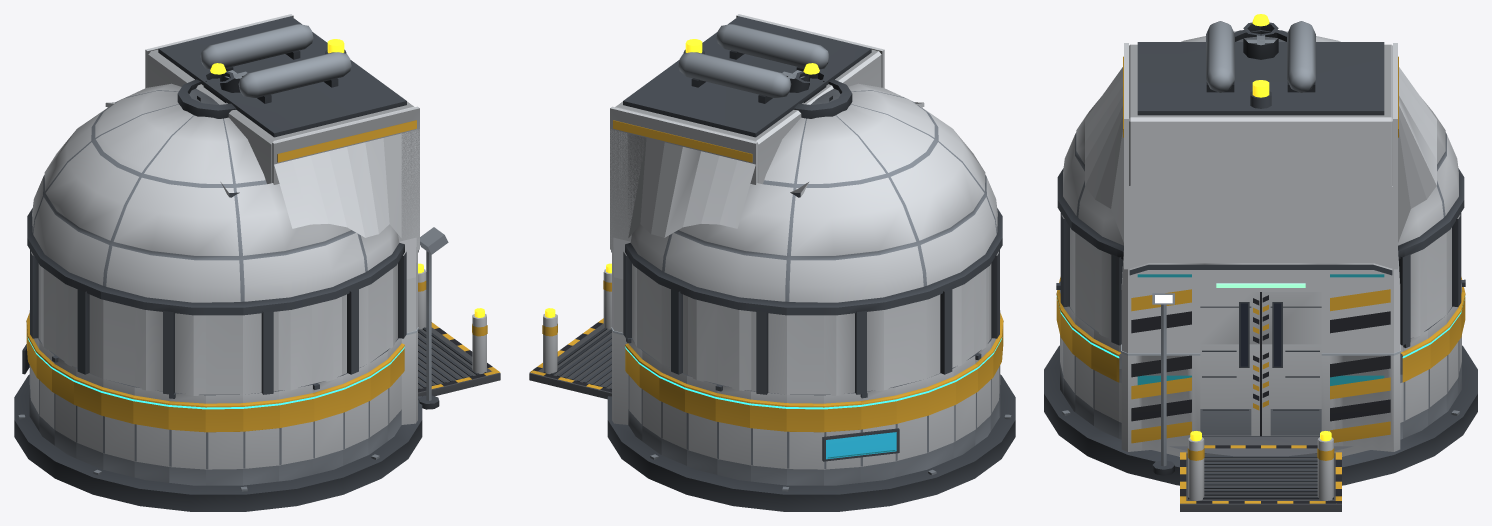
The model's file is airlock_r28.glb.
The picture shows the model from 3 angles, left to right: view 1: azimuth 30°, elevation 25°; view 2: azimuth 150°, elevation 25°; view 3: azimuth 270°, elevation 25°; orthographic projection. The views are drawn at different scales.
Visible parts, largest first — view 1: Roof, Base, Porch, Wall_21, Wall_20, Upper_20, Wall_22, Upper_21, Wall_19, Upper_22, Wall_23, Upper_19 (+22 smaller); view 2: Roof, Base, Porch, Wall_10, Upper_11, Wall_09, Upper_10, Upper_09, Wall_08, Upper_12, Upper_08, Upper_13 (+22 smaller); view 3: Roof, OuterFrameTop, OuterFrame, Porch, Base, OuterDoorL, OuterDoorR, OuterDoorLTop, OuterDoorRTop, Wall_27, Wall_04, Upper_04 (+13 smaller).
Boxes of the visible parts, box(x1,y1,x2,y2) form: Roof: box(27, 14, 419, 307); Base: box(14, 374, 422, 511); Porch: box(418, 263, 500, 409); Wall_21: box(205, 394, 243, 485); Wall_20: box(168, 392, 205, 485); Upper_20: box(168, 305, 205, 395); Wall_22: box(243, 390, 279, 485); Upper_21: box(205, 307, 243, 394); Wall_19: box(133, 387, 169, 482); Upper_22: box(243, 303, 279, 394); Wall_23: box(279, 384, 314, 481); Upper_19: box(133, 299, 168, 394); Roof: box(610, 14, 1002, 307); Base: box(607, 374, 1015, 511); Porch: box(529, 263, 611, 399); Wall_10: box(786, 394, 824, 485); Upper_11: box(824, 305, 861, 395); Wall_09: box(750, 390, 786, 485); Upper_10: box(786, 307, 824, 394); Upper_09: box(750, 303, 786, 394); Wall_08: box(715, 384, 750, 481); Upper_12: box(861, 299, 896, 394); Upper_08: box(716, 297, 751, 390); Upper_13: box(894, 291, 928, 386); Roof: box(1057, 21, 1464, 269); OuterFrameTop: box(1121, 180, 1400, 353); OuterFrame: box(1121, 353, 1400, 456); Porch: box(1152, 369, 1341, 511); Base: box(1044, 345, 1477, 485); OuterDoorL: box(1200, 344, 1260, 436); OuterDoorR: box(1261, 344, 1321, 436); OuterDoorLTop: box(1200, 292, 1260, 344); OuterDoorRTop: box(1261, 292, 1321, 344); Wall_27: box(1091, 329, 1118, 438); Wall_04: box(1403, 329, 1430, 438); Upper_04: box(1404, 236, 1430, 343).
Size of the model in its own units: 6.38 by 5.26 by 5.35.
